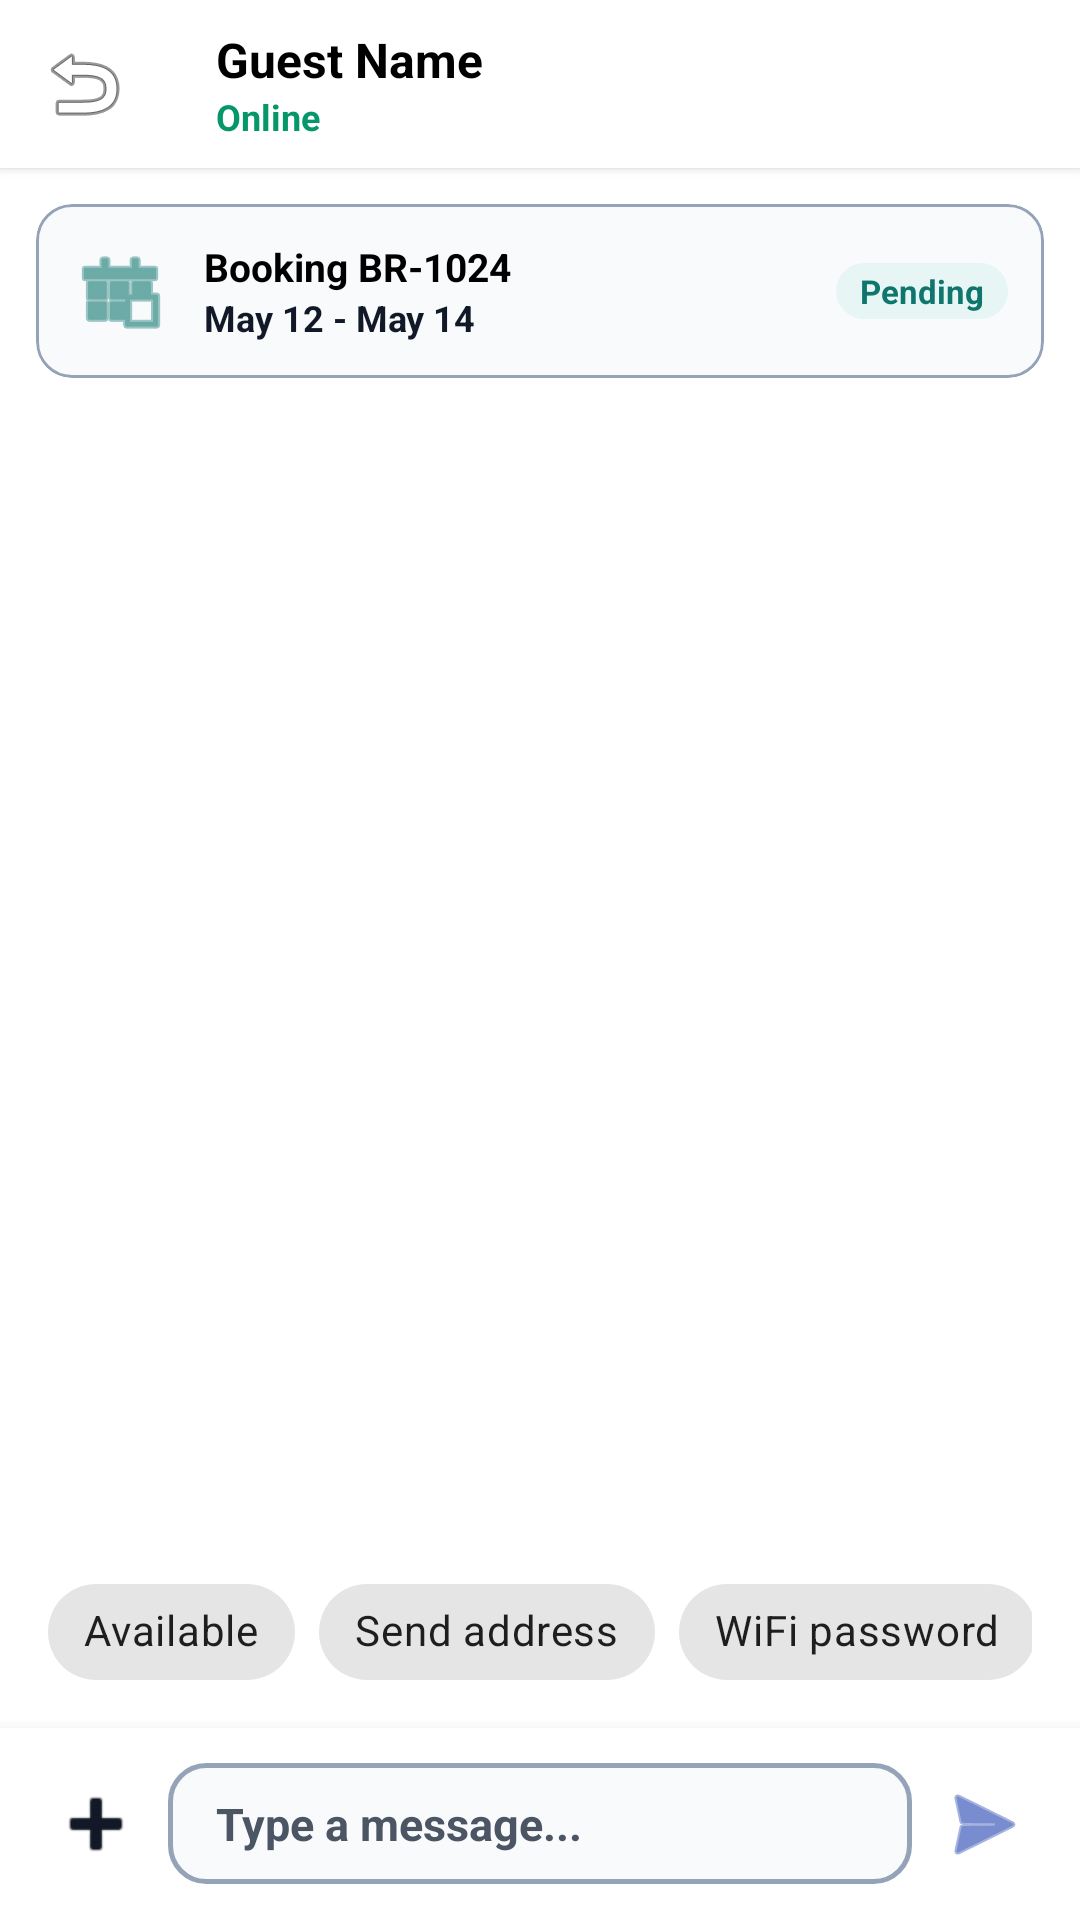

Locate icon controls on the screen. Image size 1080w x 1920h, boxes as region(x1, y1, x2, y2).
add: region(69, 1797, 123, 1851)
send: region(954, 1794, 1016, 1855)
today: region(82, 256, 160, 329)
